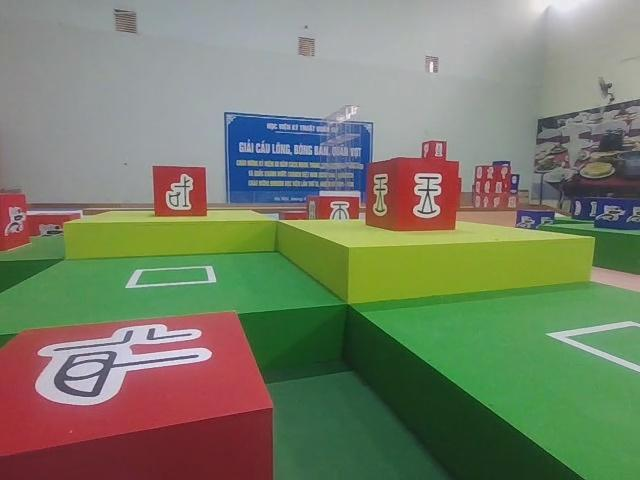R1: (0, 188, 33, 255)
R2 Real: (0, 304, 278, 480), (363, 154, 462, 240), (149, 161, 210, 219)
